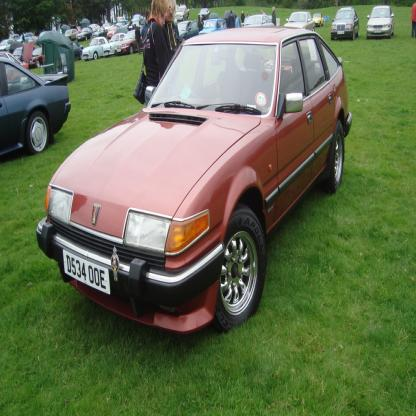Car: (37, 26, 353, 332), (1, 6, 280, 163), (366, 4, 397, 41), (332, 6, 359, 41), (286, 12, 316, 40), (315, 12, 326, 27)
